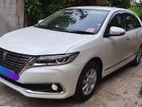car: (0, 6, 142, 101)
